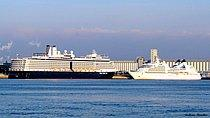Ship: (7, 44, 123, 83), (126, 57, 206, 84)
